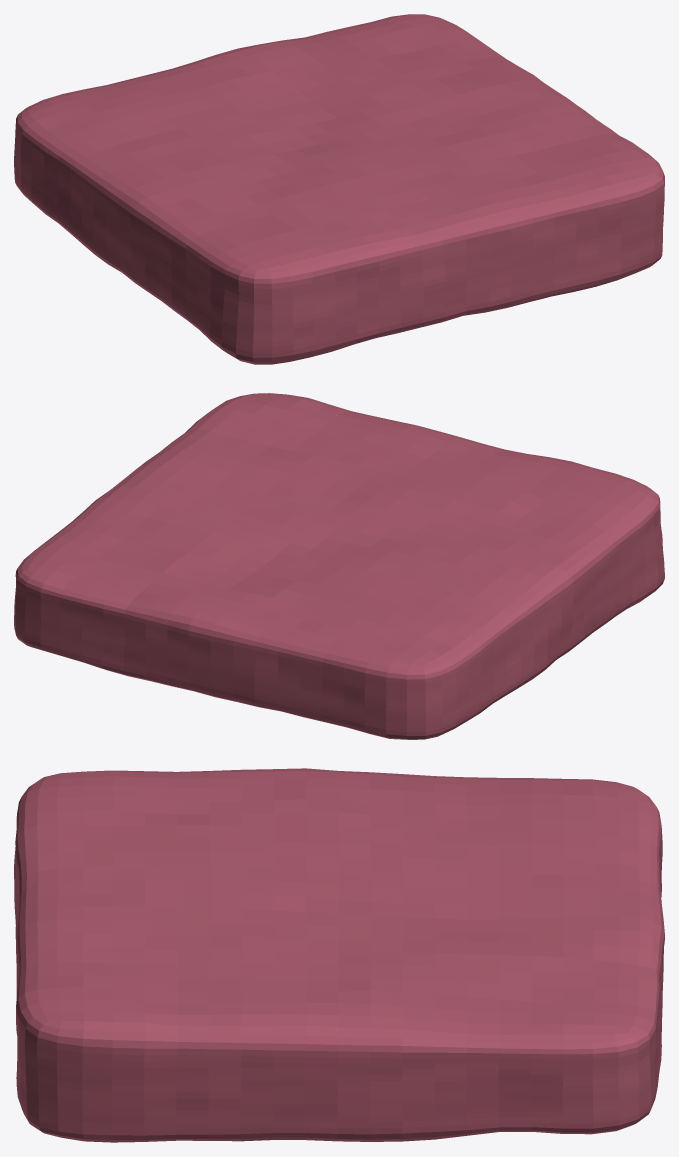
3 views of the same model, one above another, from view 1: azimuth 30°, elevation 25°; view 2: azimuth 150°, elevation 25°; view 3: azimuth 270°, elevation 25° (orthographic). The views are drawn at different scales.
Visible parts, largest first — view 1: Pillow; view 2: Pillow; view 3: Pillow.
Part boxes in pixels (<box>): Pillow: <box>14,14,664,364</box>; Pillow: <box>14,393,664,739</box>; Pillow: <box>14,768,664,1142</box>.
Size of the model in its own units: 1.11 by 0.2467 by 1.11.
